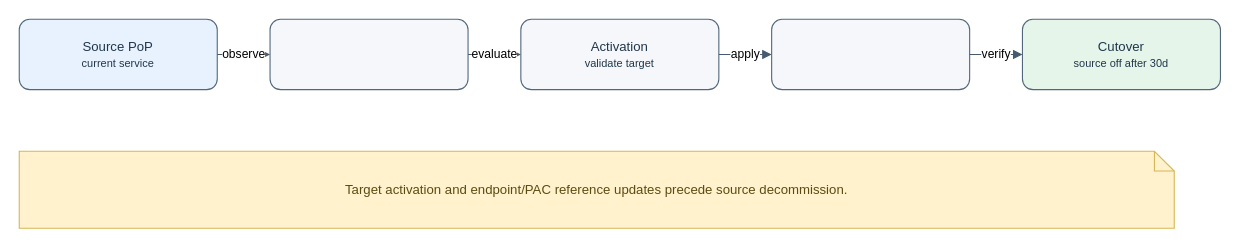
Some shapes in this 1240 by 248 pixel diagram are drawn without their labels. Here are the shapes that lost their labels. From the top down, the centre of each, then its label:
(368,54): Target PoP provisioned disabled
(870,54): Endpoint / PAC FQDN vs regional IP
